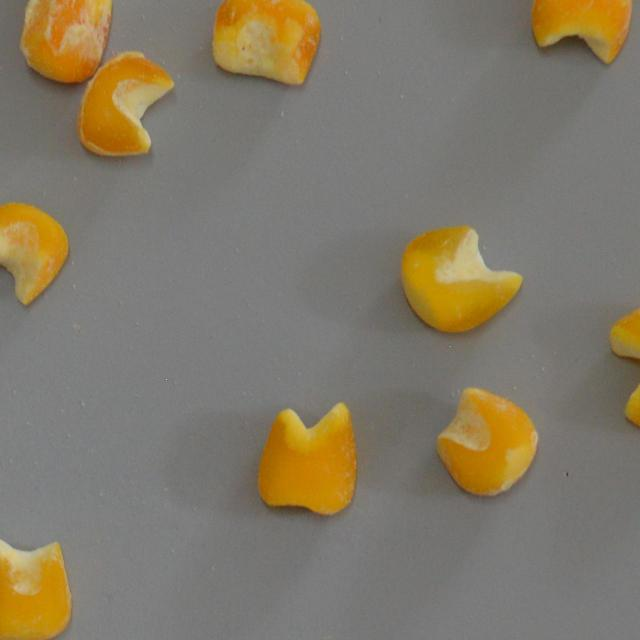no_canjicado: (256, 402, 362, 516), (608, 300, 640, 434)
no_desgerminado: (400, 224, 522, 335)
pelicula: (436, 386, 538, 497), (80, 50, 176, 158), (18, 0, 112, 84), (0, 536, 72, 640), (0, 202, 68, 306), (530, 0, 632, 66)
punto_negro: (212, 0, 322, 86)
